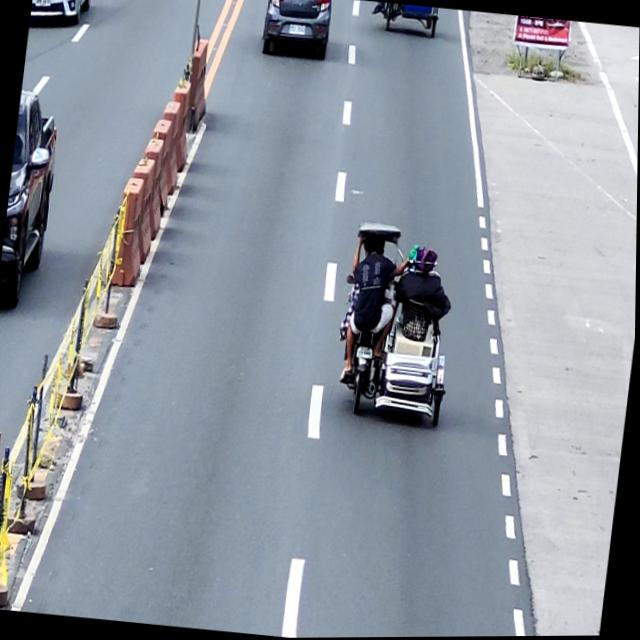Car: (0, 87, 64, 312), (259, 0, 334, 63), (29, 0, 93, 29)
License-Plate: (356, 346, 374, 360), (288, 23, 306, 36), (35, 0, 52, 7)
Tricycle: (329, 220, 466, 429), (377, 2, 440, 39)
